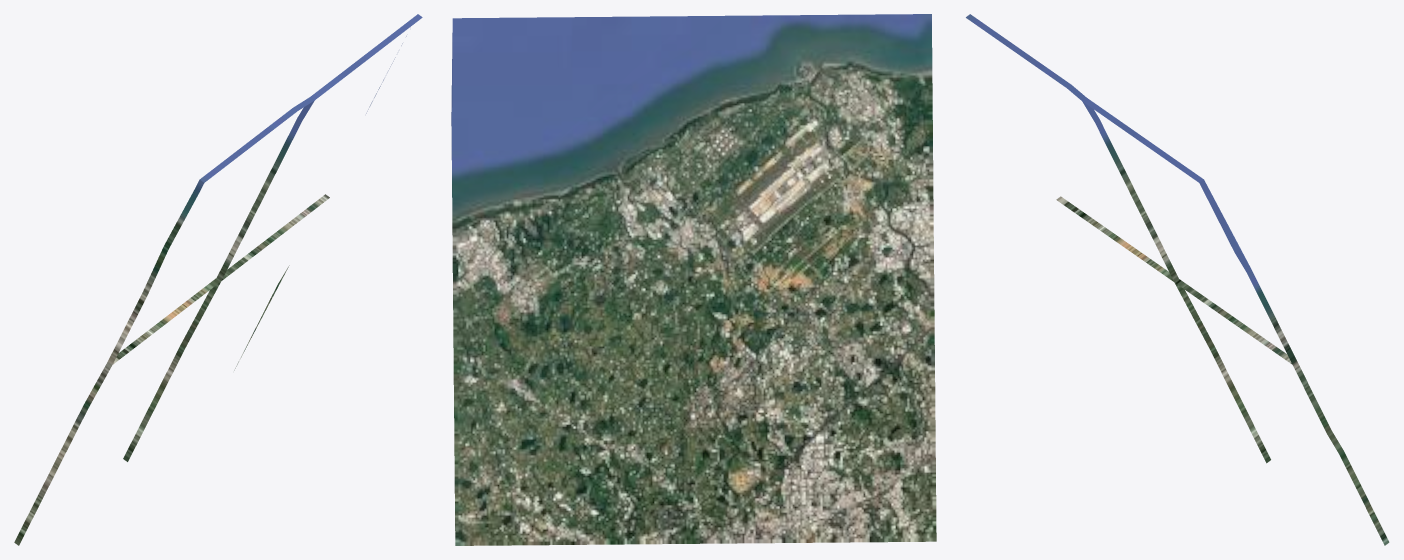
The picture shows the model from 3 angles, left to right: view 1: azimuth 30°, elevation 25°; view 2: azimuth 150°, elevation 25°; view 3: azimuth 270°, elevation 25°; orthographic projection. The views are drawn at different scales.
Bounding box in the file's own units: 19710 × 17828 × 16608.
1 material, 1 textured.
